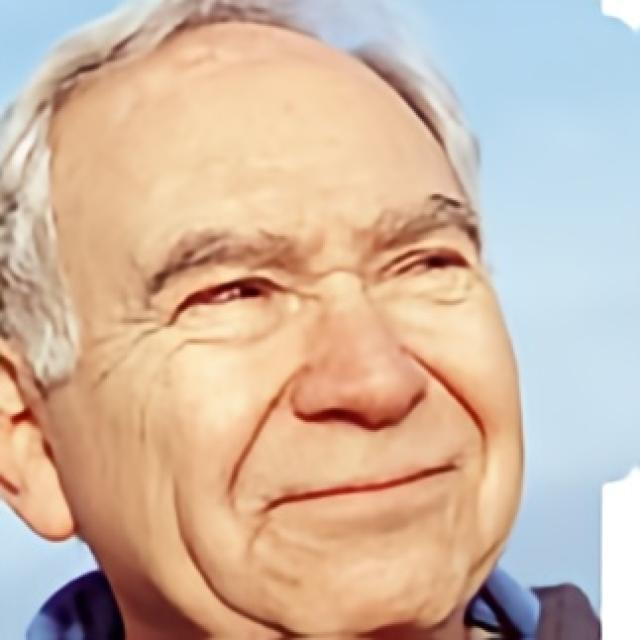happy: (87, 57, 521, 638)
